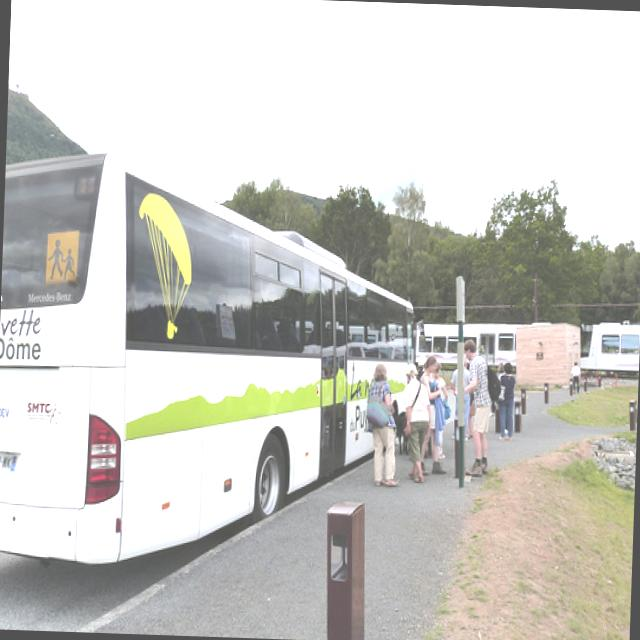Vehicle: (0, 145, 425, 572), (416, 318, 550, 372), (576, 319, 640, 376)
